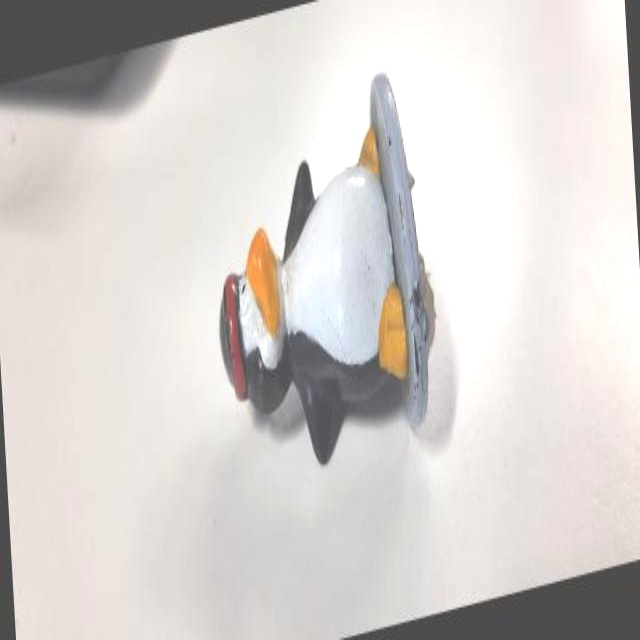Penguin: (197, 43, 451, 501)
